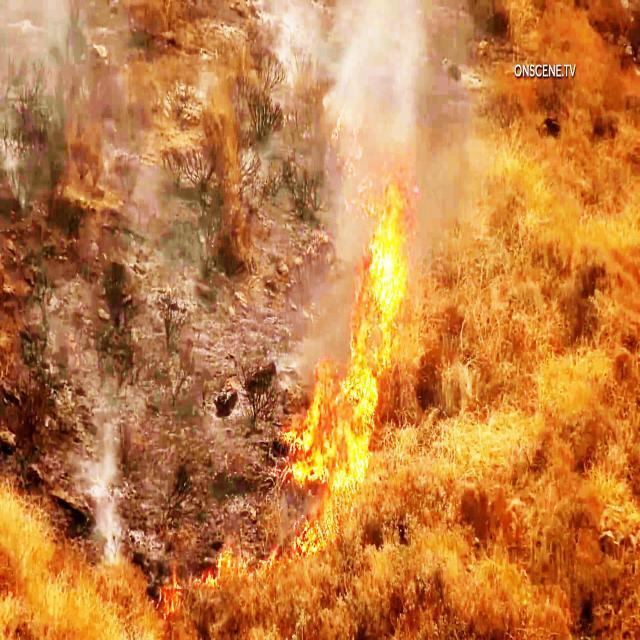Fire: (329, 102, 419, 376), (144, 511, 344, 614), (290, 350, 382, 502)
Smoke: (2, 1, 307, 413), (350, 6, 484, 134), (74, 410, 134, 584)
